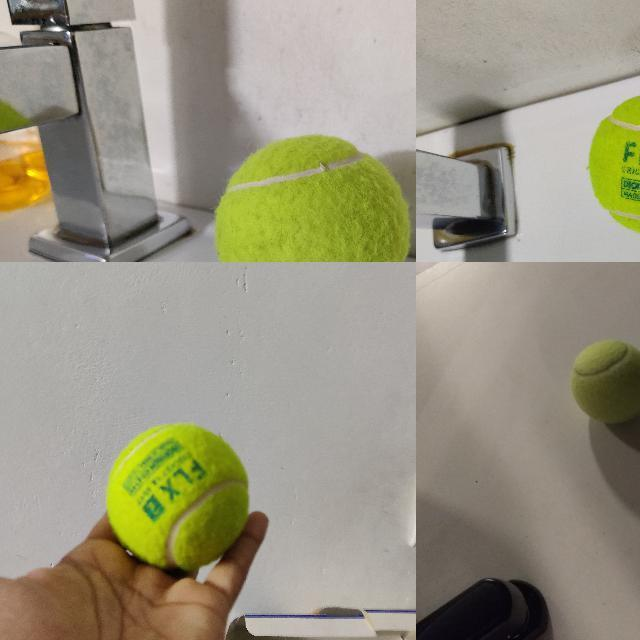tennis-ball: (211, 131, 414, 261), (105, 423, 249, 568), (586, 92, 639, 236), (568, 339, 639, 426)
